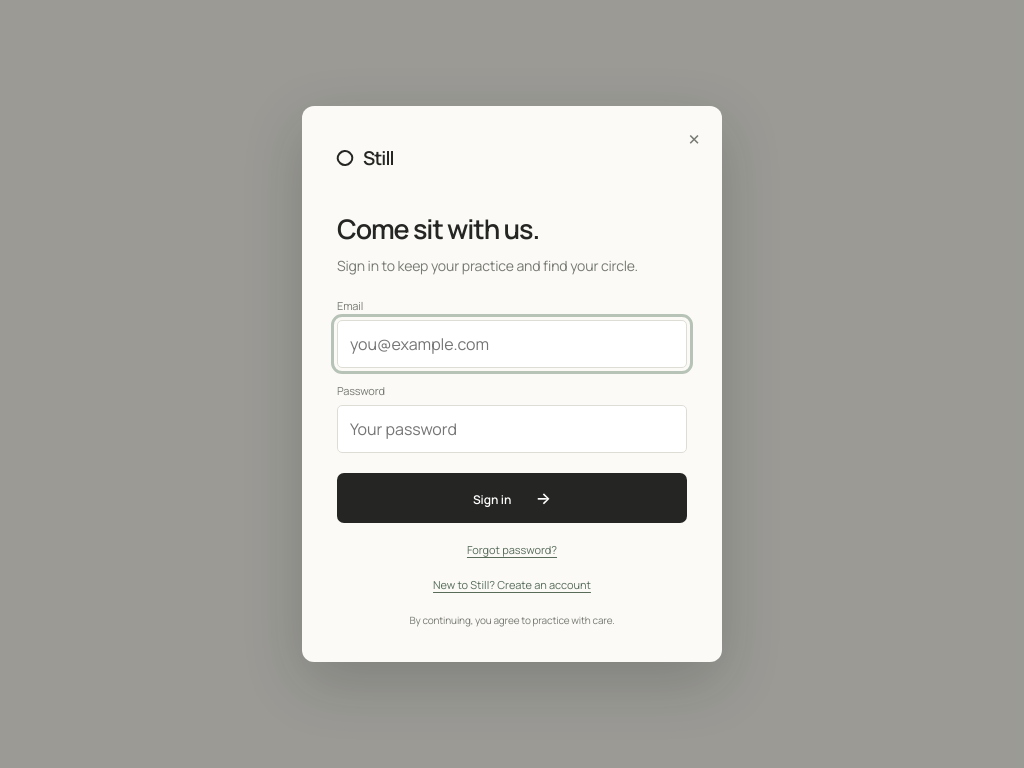
Test case: AuthModal › treats malformed response JSON as the generic auth error
The image size is (1024, 768).
Type "a@test" into the field with placeholder "you@example.com" at (512, 344), box [337,320,687,368]
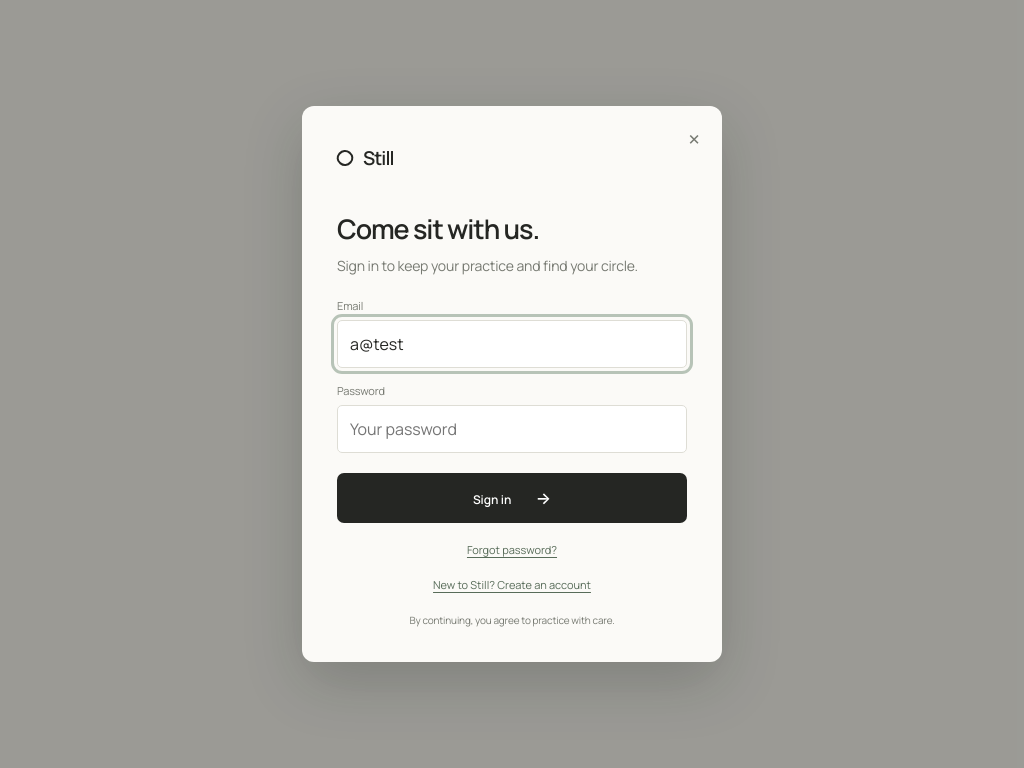
Type "pw" into the password field with placeholder "Your password" at (512, 429), box [337,405,687,453]
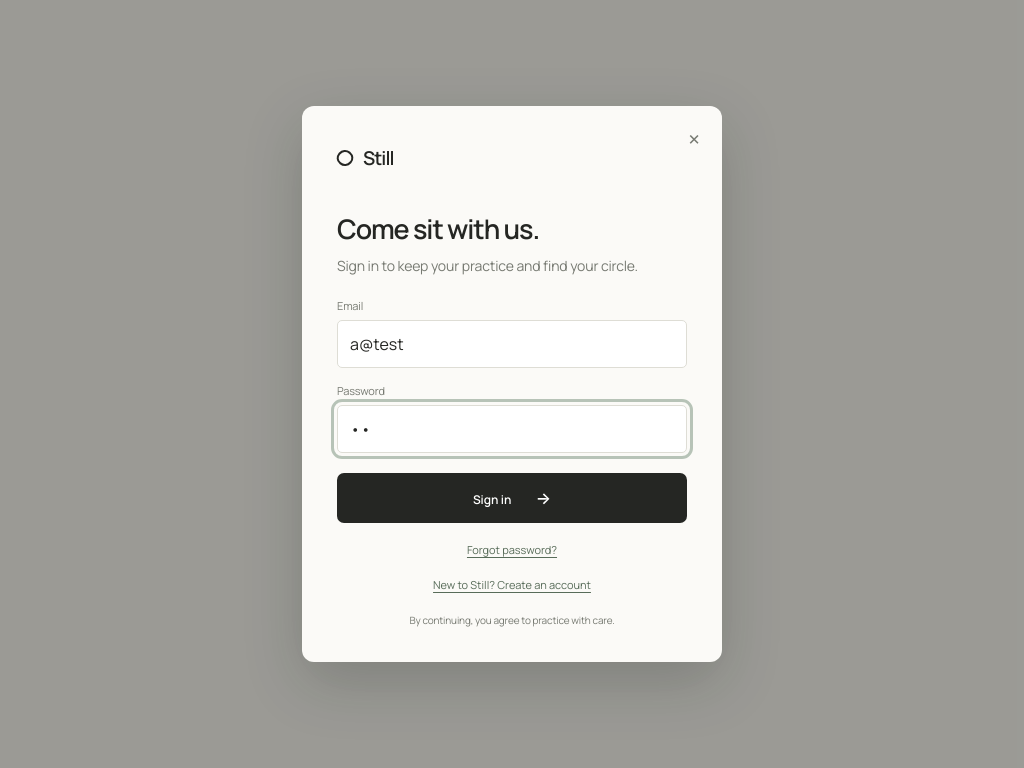
Click the button "Sign in →" at (512, 498), box [337,473,687,523]
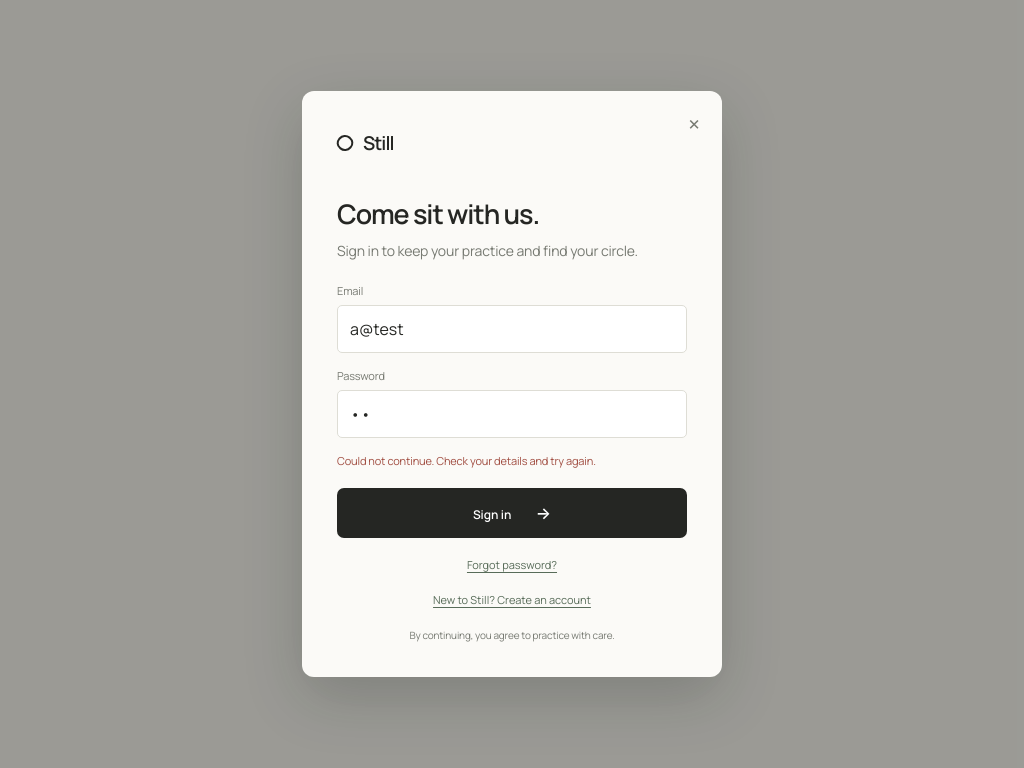
Expected: the message shows "Could not continue", [337,453,596,468]
